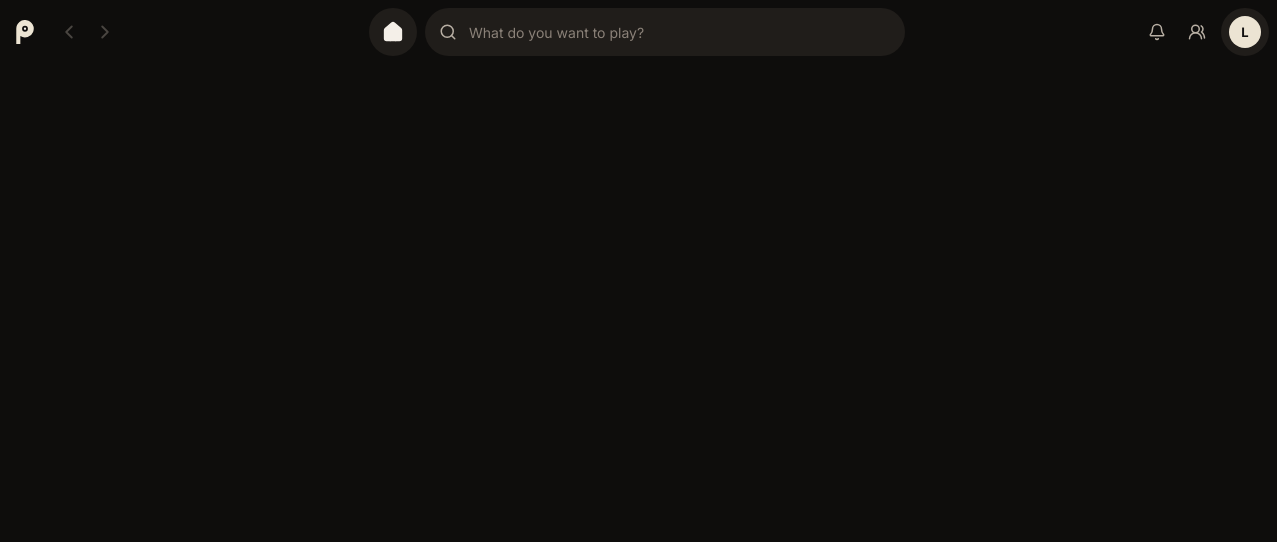
Test: Plex Home users in the app menu › lists the other Home users with their pictures, under the current one
This screenshot has width=1277, height=542.
Click the button named "App menu" at (1245, 32), box x1=1221 y1=8 x2=1269 y2=56
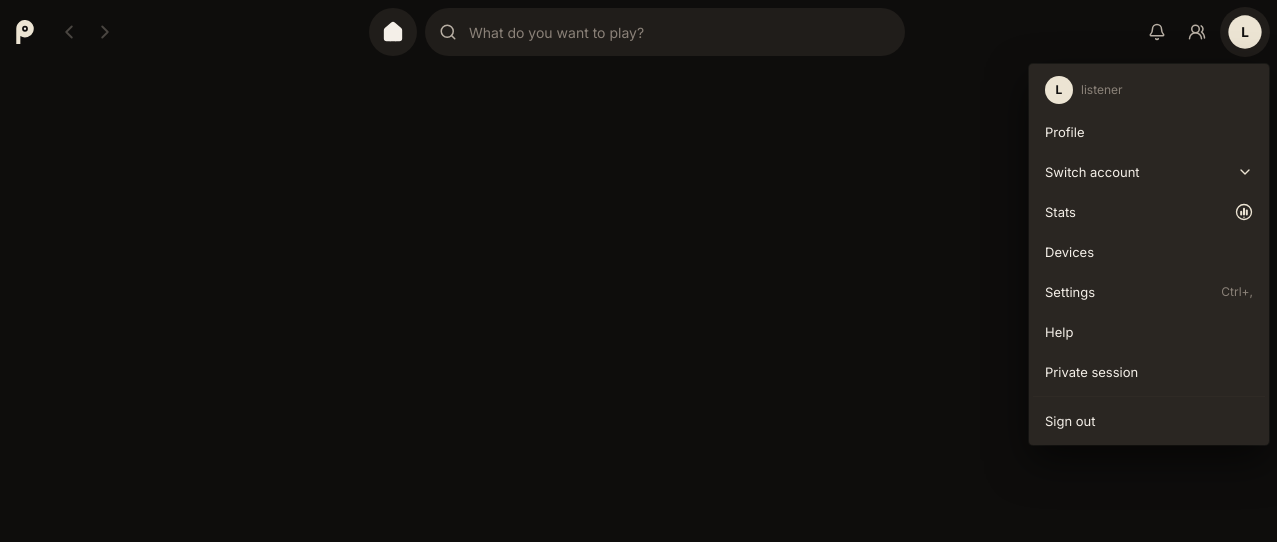
Click the menu item "Switch account" at (1149, 172), box x1=1033 y1=152 x2=1265 y2=192
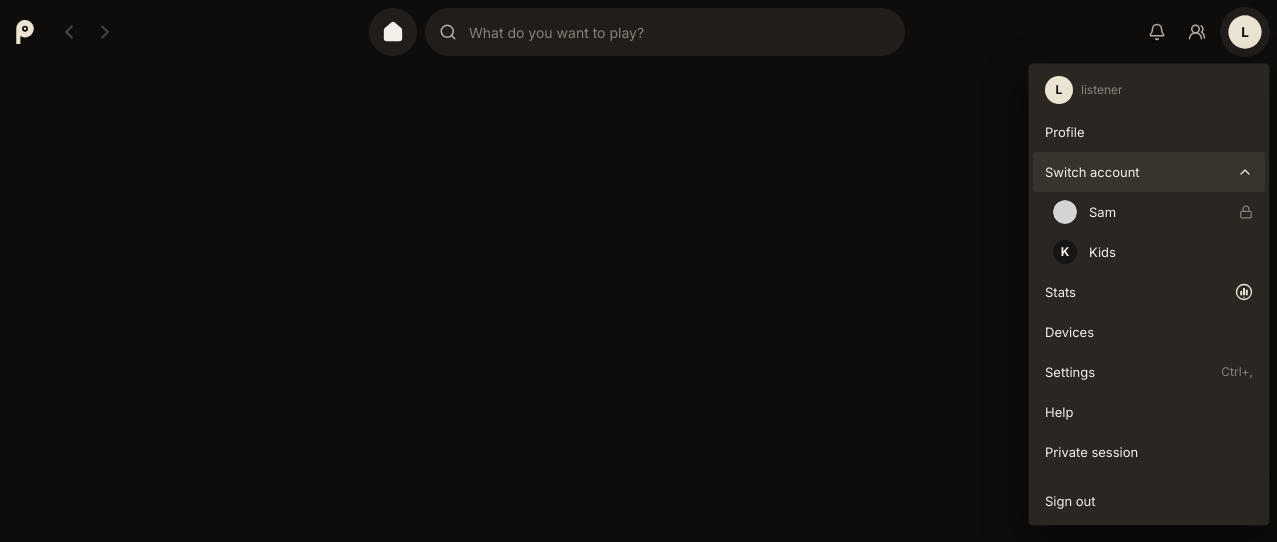
Result: the element with class "appmenu__who" shows "listener" at x1=1081 y1=82 x2=1123 y2=97
Result: the menu item "Switch account" is expanded at x1=1033 y1=152 x2=1265 y2=192
